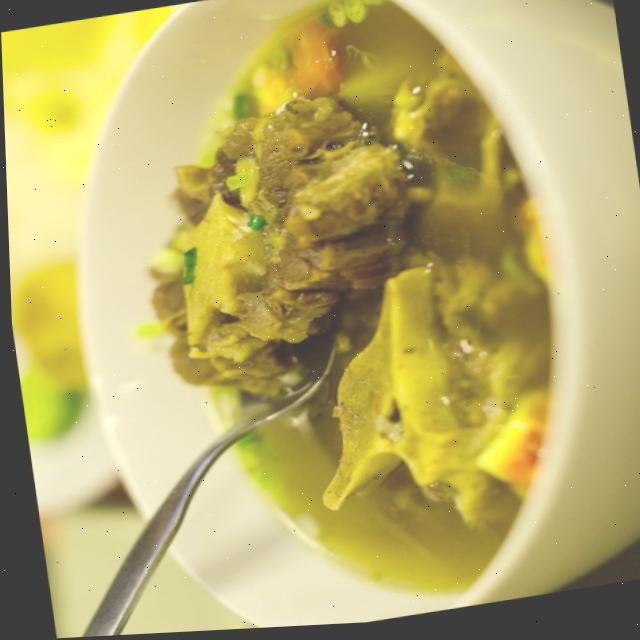汤锅炖物: (32, 0, 640, 639)
